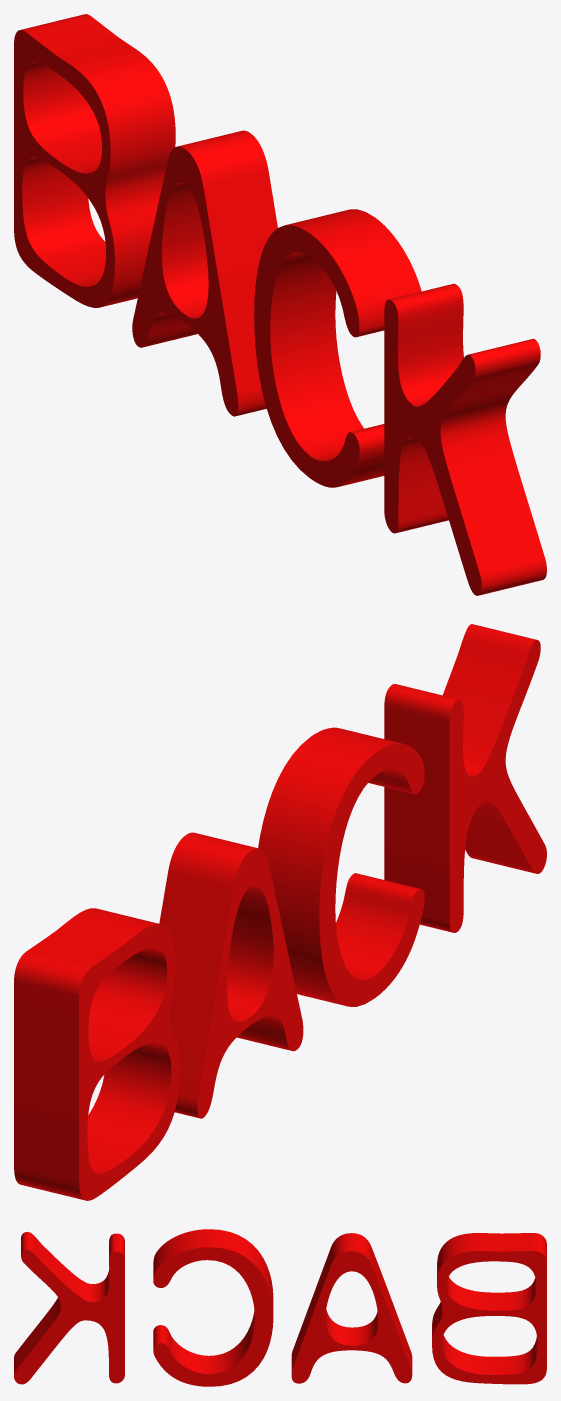
The model's file is back.glb.
3 renders of one model, top to bottom at view 1: azimuth 30°, elevation 25°; view 2: azimuth 150°, elevation 25°; view 3: azimuth 270°, elevation 25°, orthographic. The views are drawn at different scales.
Parts seen in each view (by area): view 1: Text; view 2: Text; view 3: Text.
Part boxes in pixels (x1,y1,x2,y2): Text: [14, 14, 546, 595]; Text: [14, 624, 546, 1200]; Text: [14, 1229, 546, 1386].
Bounding box in the file's own units: 0.22 × 0.7904 × 2.74.
